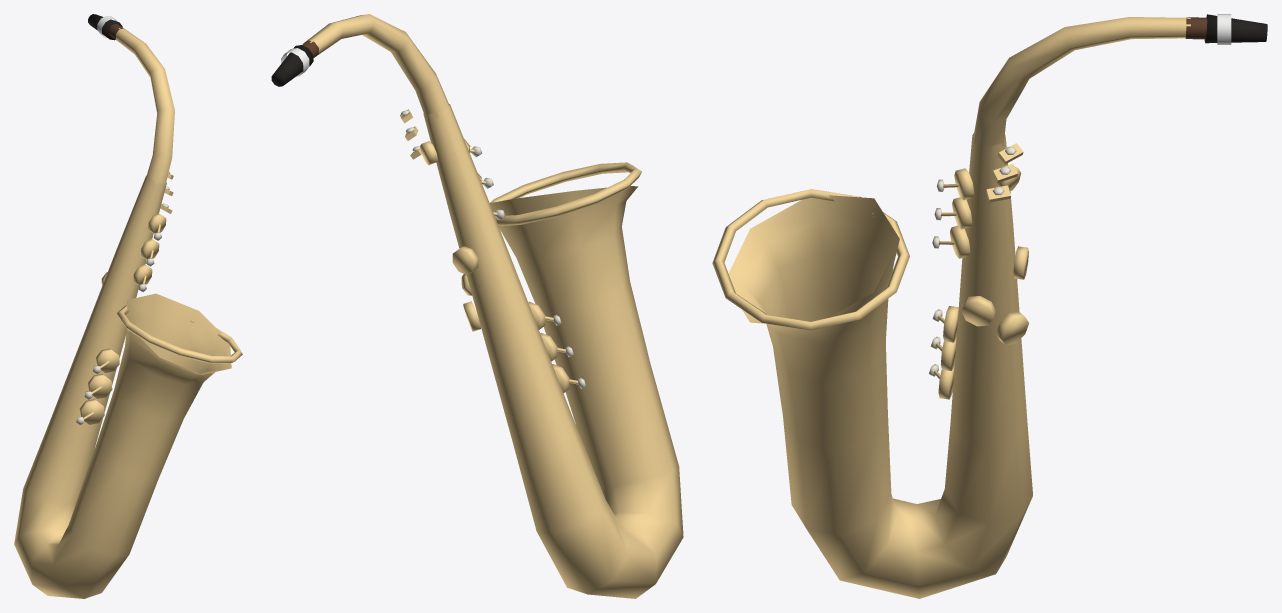
Rendered from instr_sax.lite.glb.
3 renders of one model, left to right at view 1: azimuth 30°, elevation 25°; view 2: azimuth 150°, elevation 25°; view 3: azimuth 270°, elevation 25°, orthographic. The views are drawn at different scales.
Parts seen in each view (by area): view 1: sax_saxbrass, sax_ivory, sax_ebony; view 2: sax_saxbrass, sax_ebony, sax_ivory; view 3: sax_saxbrass, sax_ebony, sax_ivory.
Part boxes in pixels (x1=…): sax_saxbrass: x1=14, y1=28, x2=242, y2=598; sax_ivory: x1=76, y1=171, x2=169, y2=425; sax_ebony: x1=88, y1=14, x2=122, y2=40; sax_saxbrass: x1=303, y1=14, x2=683, y2=598; sax_ebony: x1=271, y1=45, x2=313, y2=86; sax_ivory: x1=400, y1=110, x2=585, y2=388; sax_saxbrass: x1=712, y1=17, x2=1190, y2=598; sax_ebony: x1=1204, y1=14, x2=1267, y2=43; sax_ivory: x1=929, y1=146, x2=1016, y2=376.
Bounding box in the file's own units: 0.3193 × 0.7511 × 0.5497.
